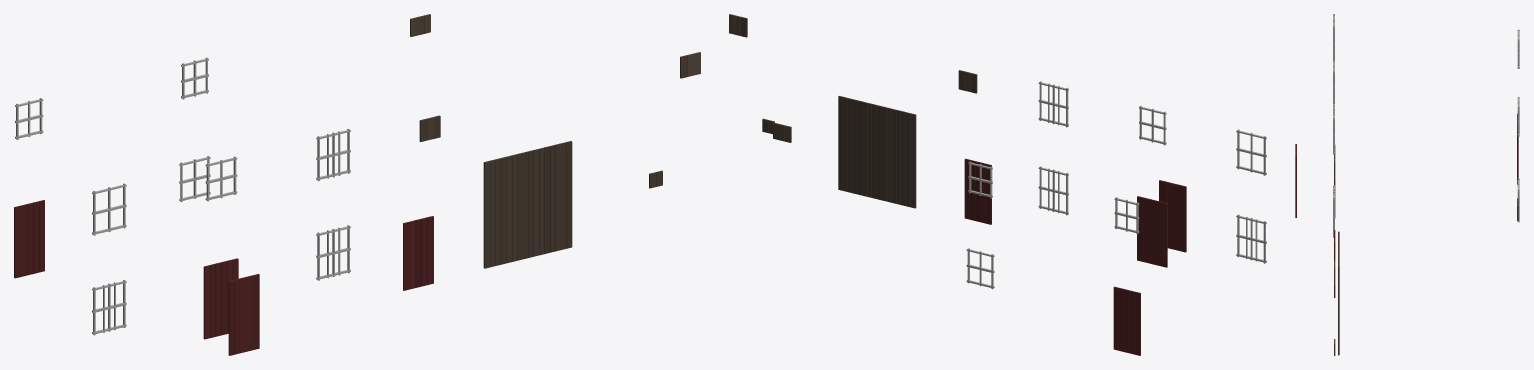
File: SM_Bld_054_Wood.glb
The picture shows the model from 3 angles, left to right: view 1: azimuth 30°, elevation 25°; view 2: azimuth 150°, elevation 25°; view 3: azimuth 270°, elevation 25°; orthographic projection. The views are drawn at different scales.
Parts seen in each view (by area): view 1: SM_Bld_054_Wood; view 2: SM_Bld_054_Wood; view 3: SM_Bld_054_Wood.
Part boxes in pixels (x1,y1,x2,y2): SM_Bld_054_Wood: [14, 14, 700, 355]; SM_Bld_054_Wood: [729, 14, 1266, 355]; SM_Bld_054_Wood: [1295, 14, 1519, 355].
Size of the model in its own units: 18.04 by 4.96 by 6.91.
